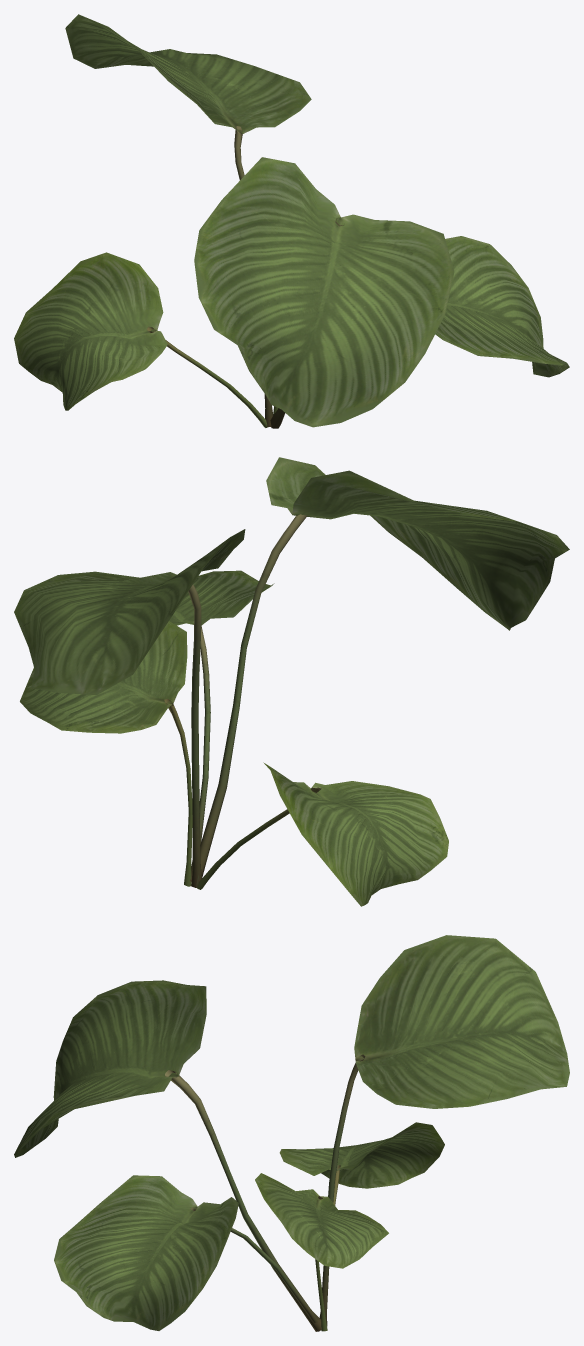
The model's file is Vine a LOD0.fbx.
The picture shows the model from 3 angles, top to bottom: view 1: azimuth 30°, elevation 25°; view 2: azimuth 150°, elevation 25°; view 3: azimuth 270°, elevation 25°; orthographic projection. The views are drawn at different scales.
Parts seen in each view (by area): view 1: calathea_orbifolia_01_b; view 2: calathea_orbifolia_01_b; view 3: calathea_orbifolia_01_b.
Boxes of the visible parts, <box> form: calathea_orbifolia_01_b: <box>14,14,569,428</box>; calathea_orbifolia_01_b: <box>14,457,569,906</box>; calathea_orbifolia_01_b: <box>14,935,569,1331</box>.
Bounding box in the file's own units: 33.69 × 29.71 × 42.64.
